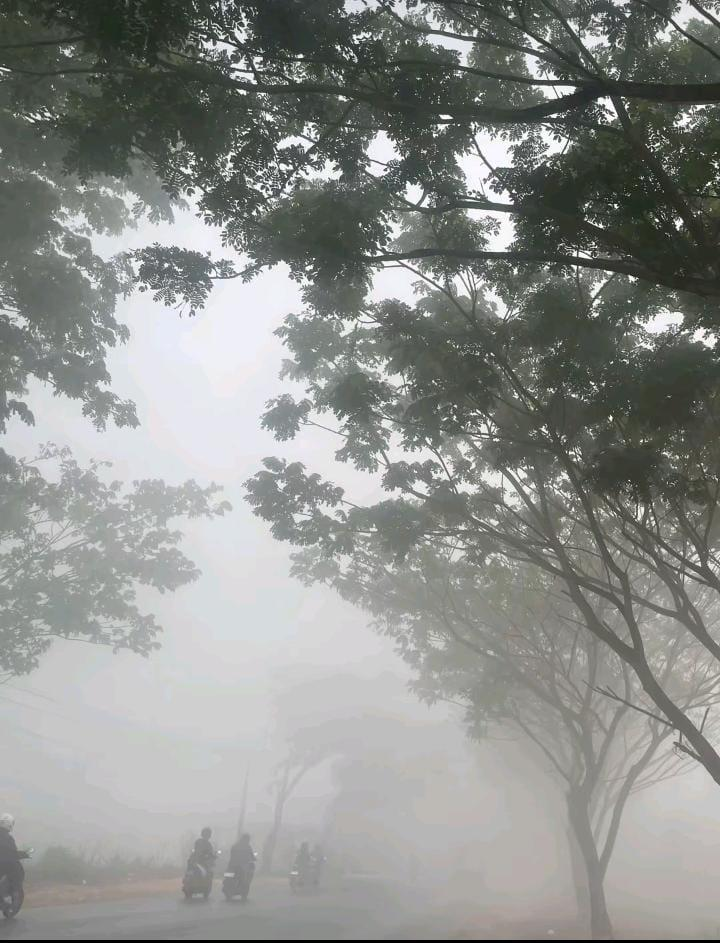Deteksi-Objek-Citra-Berasap: (0, 161, 720, 939)
Kendaraan: (0, 847, 34, 921), (180, 853, 218, 902), (220, 858, 255, 903), (288, 860, 321, 896)
Manusia: (0, 813, 29, 904), (188, 827, 218, 883), (226, 833, 256, 889), (292, 841, 316, 882)
Vegetasi: (239, 255, 720, 937), (0, 0, 720, 452), (0, 439, 227, 682)
